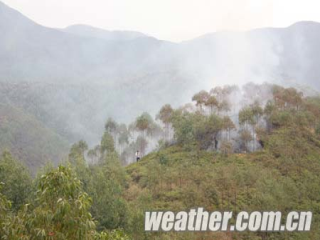smoke: (206, 59, 279, 157), (110, 110, 181, 155)
